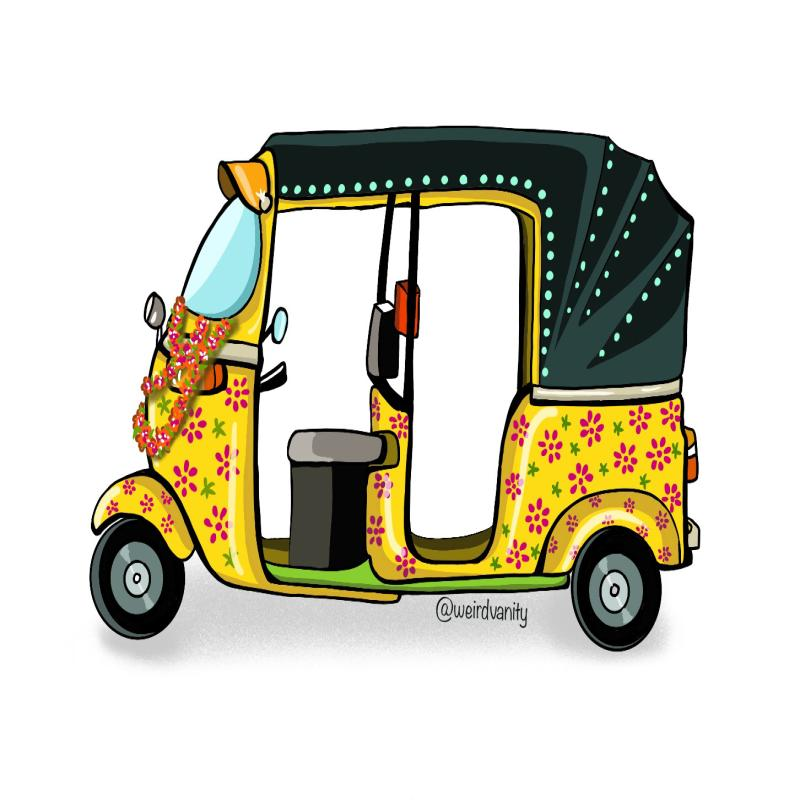bike: (108, 108, 709, 644)
